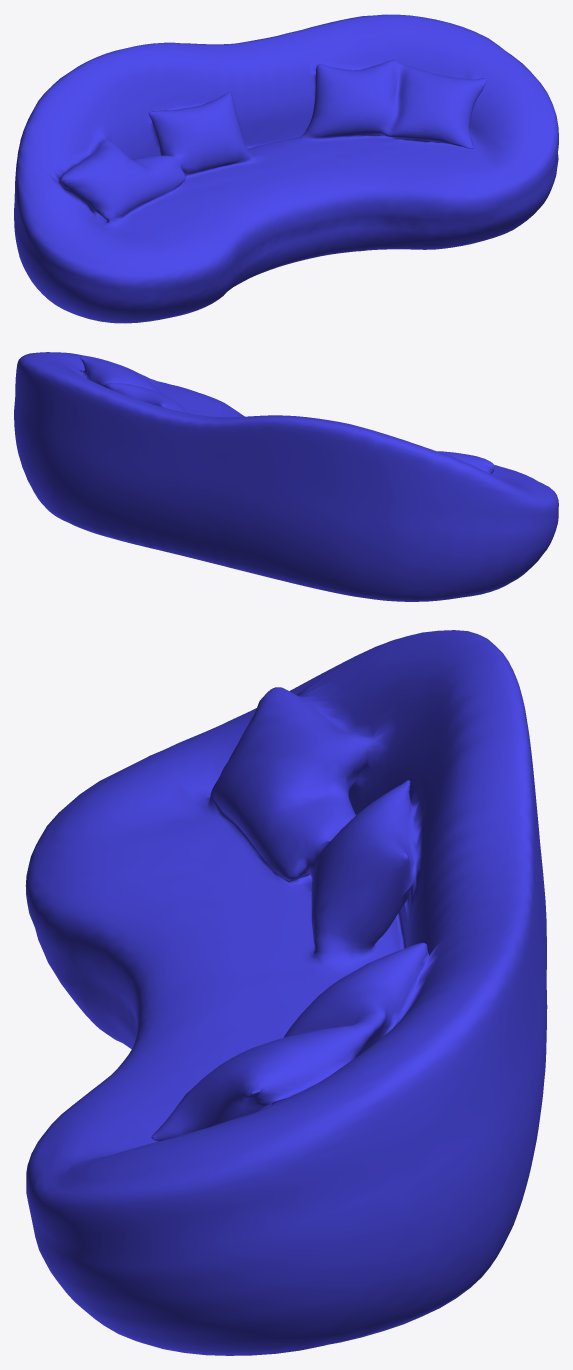
File: furniture_5.glb
3 renders of one model, top to bottom at view 1: azimuth 30°, elevation 25°; view 2: azimuth 150°, elevation 25°; view 3: azimuth 270°, elevation 25°, orthographic. The views are drawn at different scales.
Visible parts, largest first — view 1: Mesh1; view 2: Mesh1; view 3: Mesh1.
Part boxes in pixels (box(x1,y1,x2,y2)): Mesh1: box(14, 14, 558, 323); Mesh1: box(14, 352, 558, 601); Mesh1: box(25, 630, 547, 1355).
Bounding box in the file's own units: 0.9989 × 0.3368 × 0.44.
